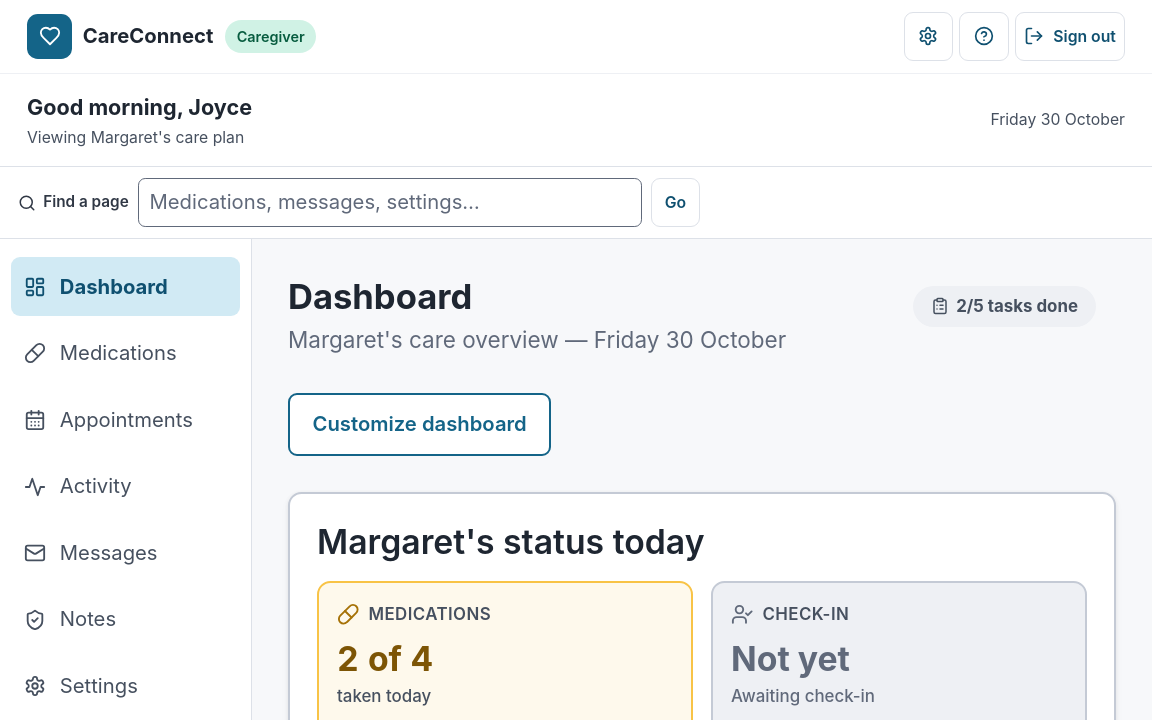
Test case: signed-in routes › has no role switcher and navigates between caregiver screens
Check: the heading "Dashboard" is shown, box [288,276,472,317]
What coordinates should you click on to do the following:
click the link "Medications"
I would click on:
 (100, 353)
Its box is [24,340,177,365].
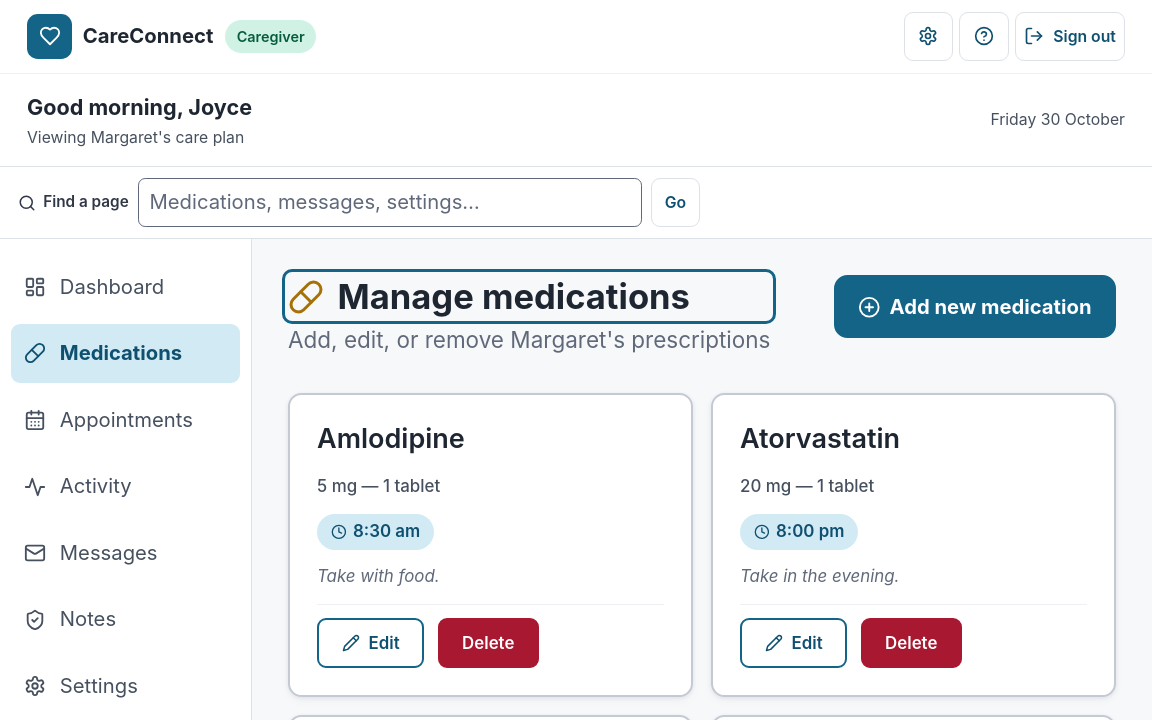
Check: the heading "Manage medications" is shown, box [288,276,690,317]
